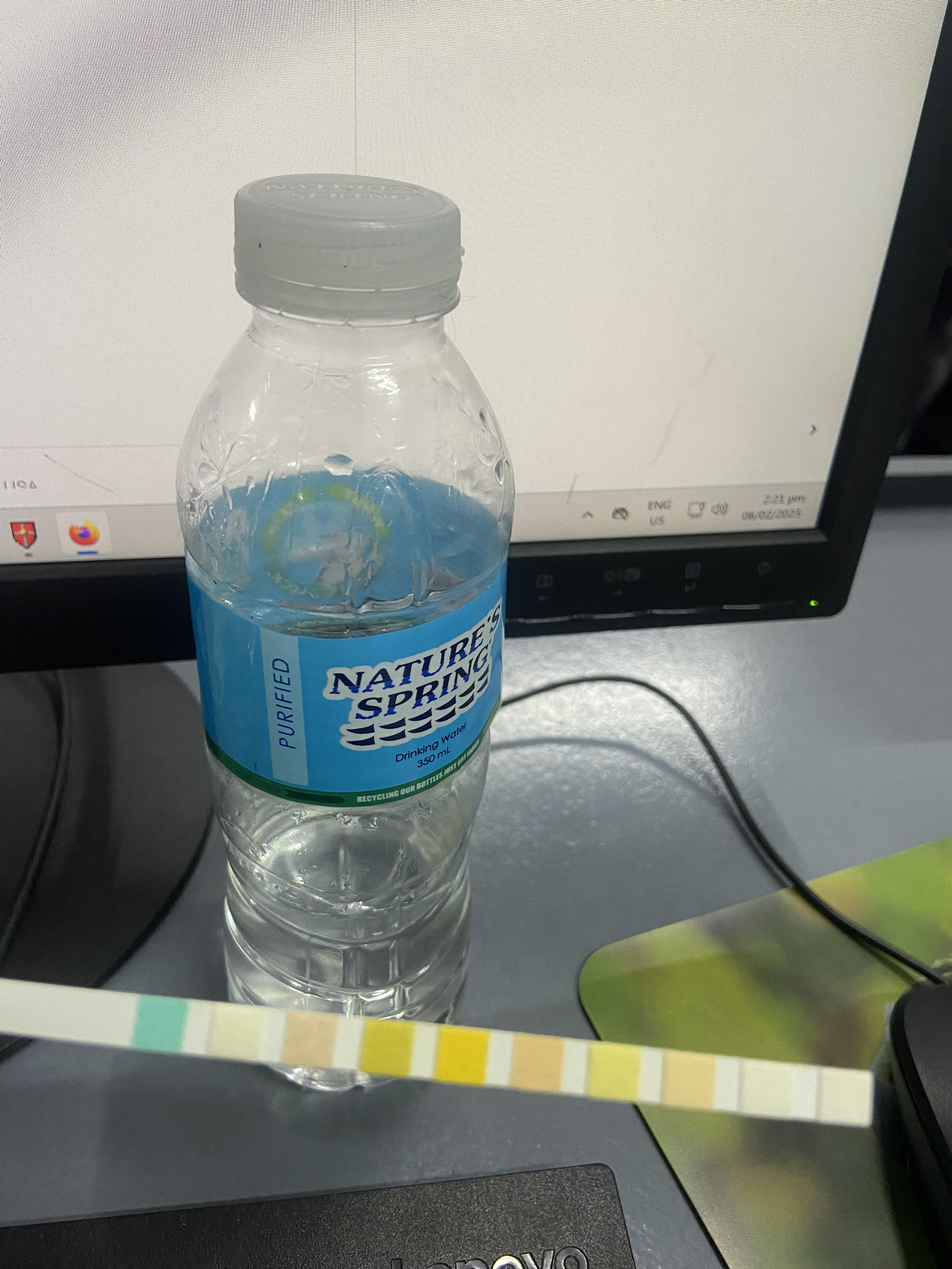Bilirubin: (214, 1007, 257, 1057)
Blood: (439, 1029, 482, 1079)
Glucose: (139, 999, 182, 1050)
Ketone: (287, 1015, 329, 1065)
Leukocytes: (824, 1072, 867, 1122)
Nitrite: (746, 1064, 788, 1114)
Protein: (592, 1047, 635, 1097)
SpGravity: (366, 1022, 409, 1072)
Urobilinogen: (668, 1055, 710, 1105)
pH: (514, 1037, 557, 1087)
strip: (1, 979, 874, 1128)
